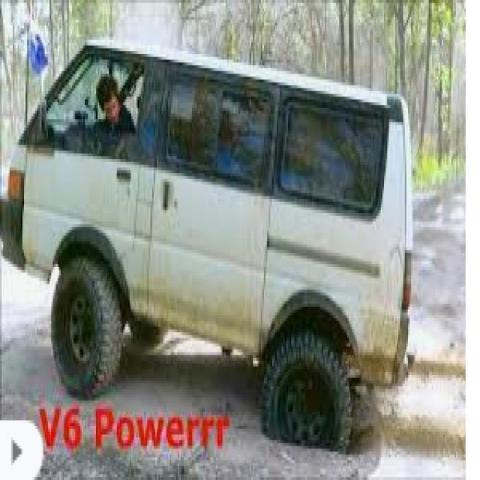van: (0, 34, 415, 452)
